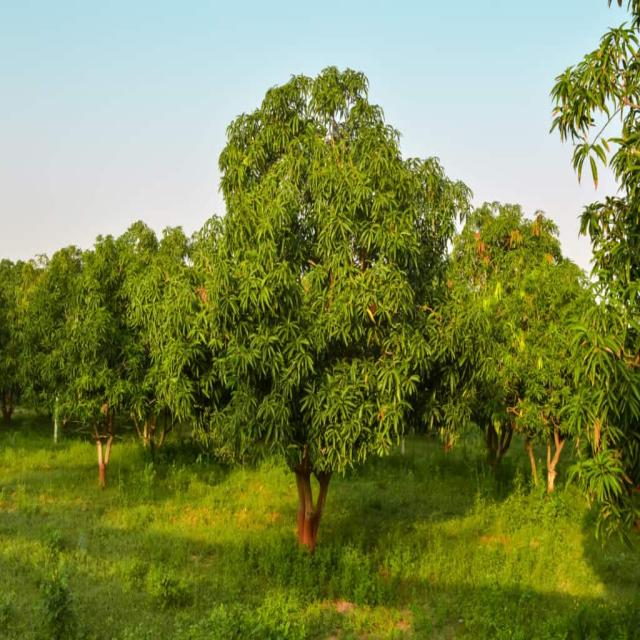Mango-Tree: (158, 72, 455, 545), (28, 204, 138, 478)
